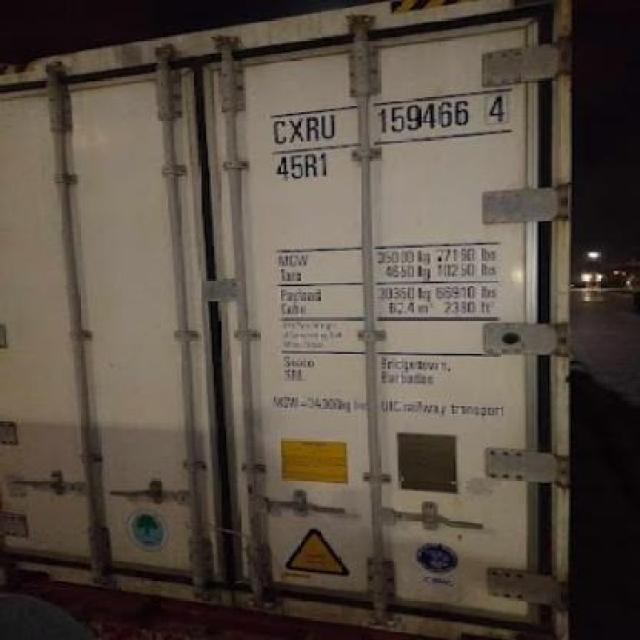ISO: (276, 151, 328, 179)
container_number: (264, 82, 520, 150)
